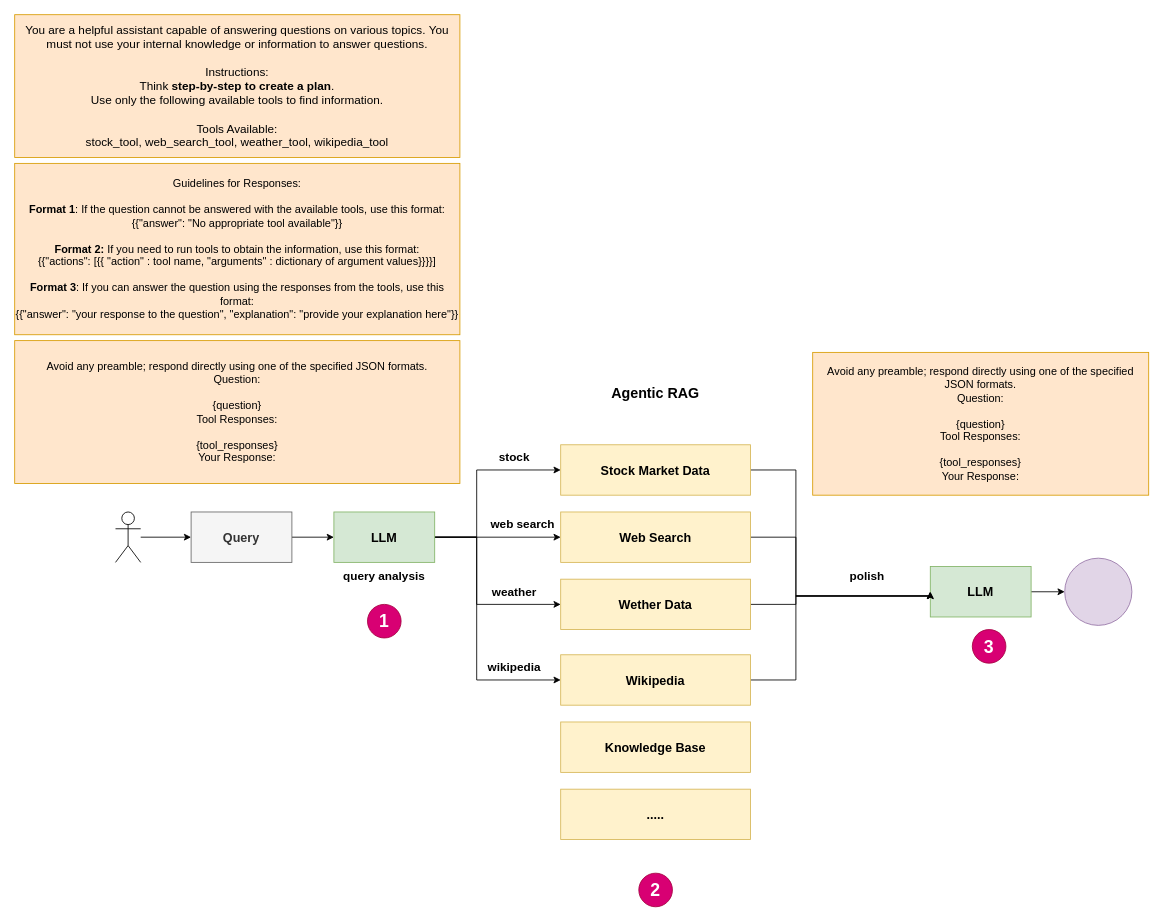
This 1163x921 diagram has some shape labels left out. The shapes that lost their labels are listed below. From the top down, each one's centre as x and y in pixels, then its label:
the point at 128,536: user
the point at 1098,591: Output
